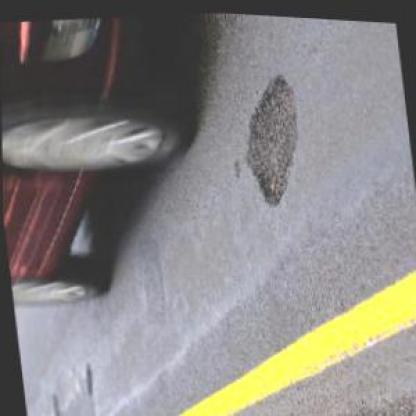pothole: (232, 66, 306, 206), (76, 359, 94, 397), (229, 156, 241, 178)
